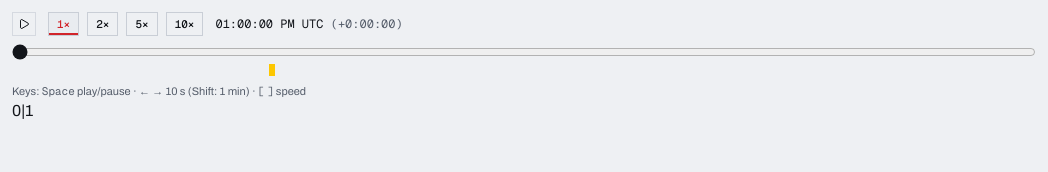
Test: replay playback › jumps to an event marker
Click the button named "Jump to Safety car, lap 23". click: (272, 70)
box: [269,64,275,76]
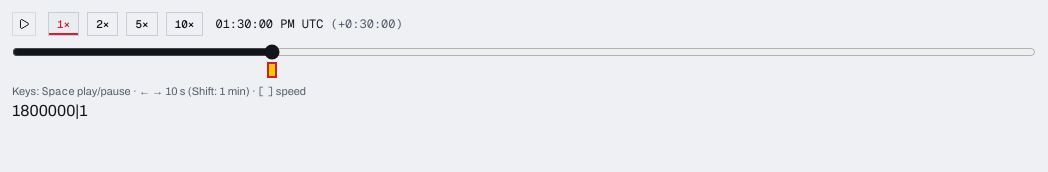
Now the text "1800000|1" is shown, box [12,102,88,119]
